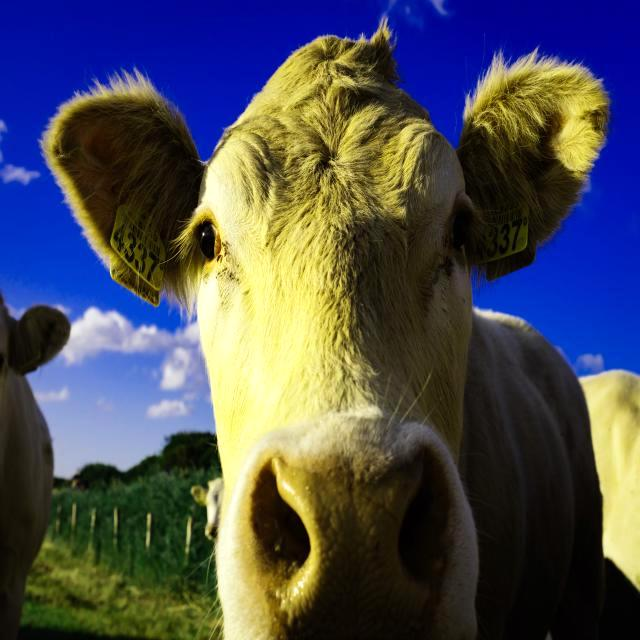COW: (42, 24, 609, 637)
